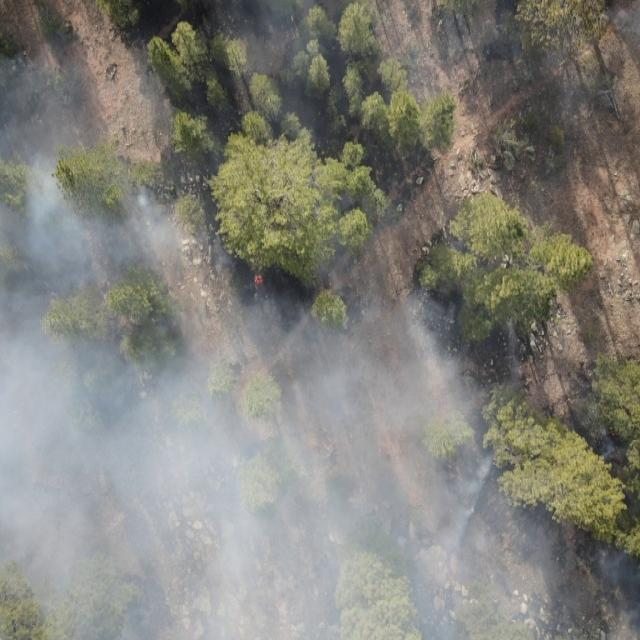fire: (252, 272, 264, 288), (368, 216, 384, 226)
smoke: (0, 159, 401, 640), (0, 0, 640, 160), (402, 229, 526, 640), (526, 485, 638, 640), (570, 366, 640, 456)
